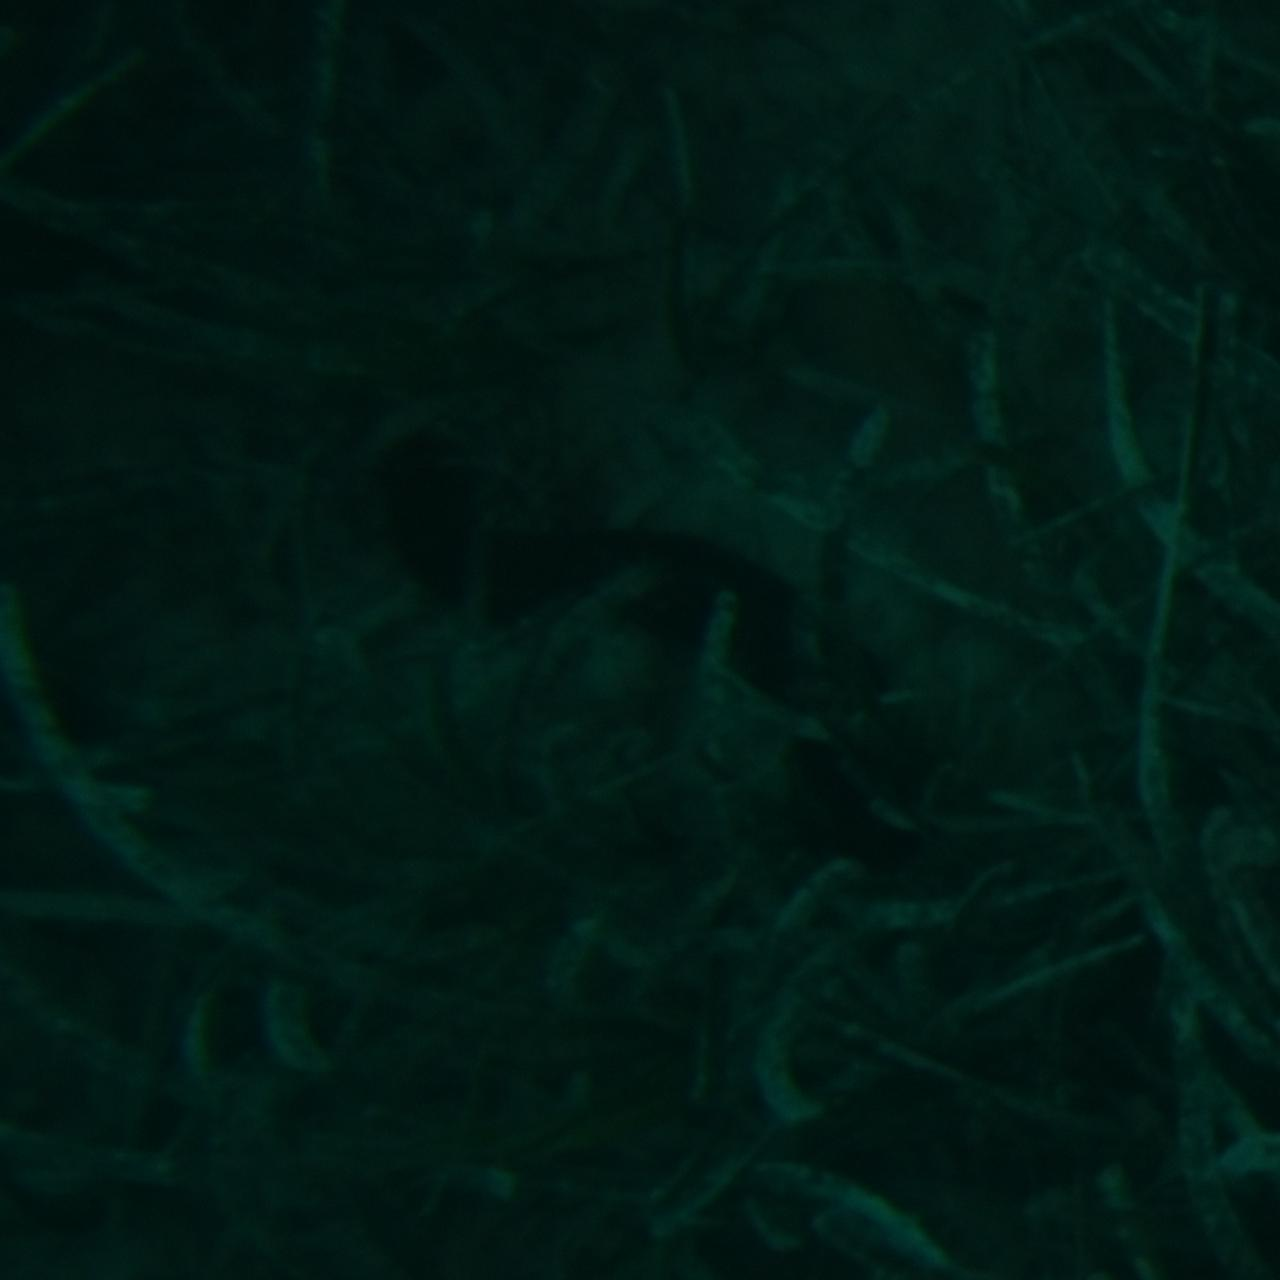Holothuria tubulosa: (376, 404, 904, 876)
